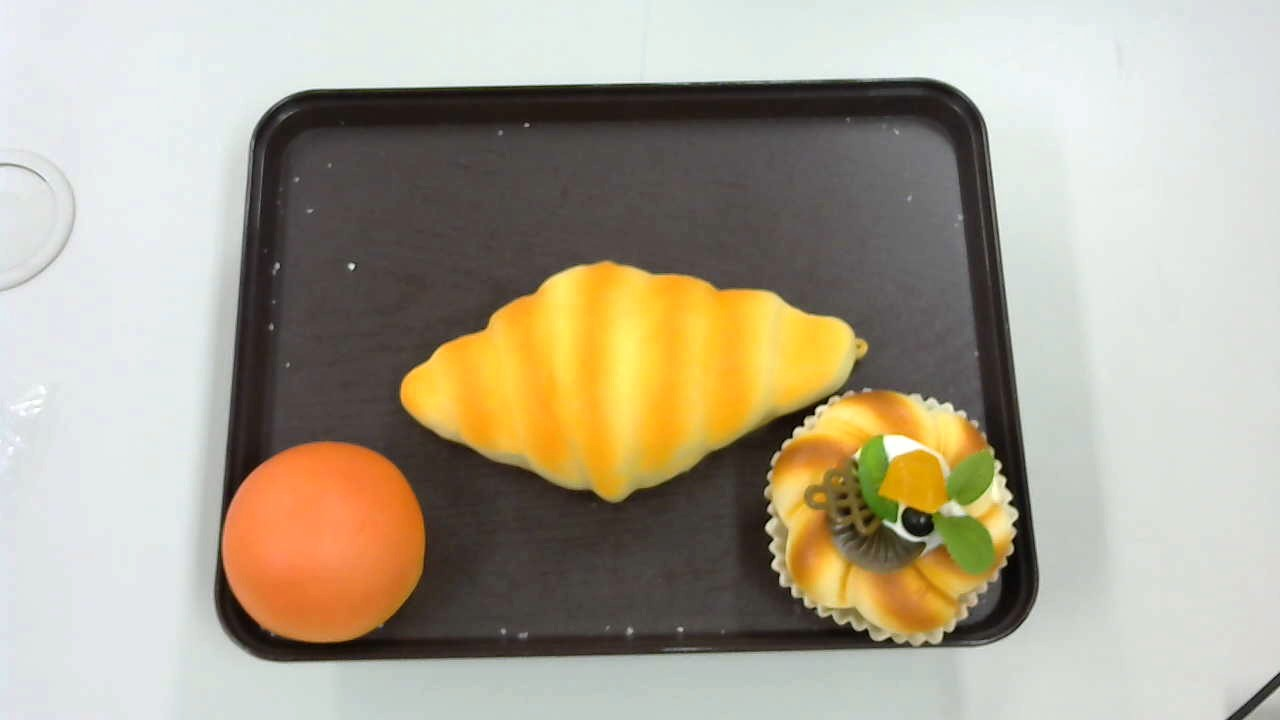bun: (221, 439, 426, 644)
croissant: (398, 260, 868, 502)
fruit tart: (764, 389, 1018, 648)
